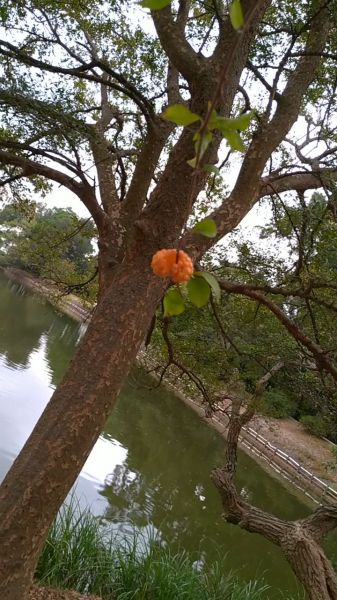eggs: (149, 247, 199, 289)
